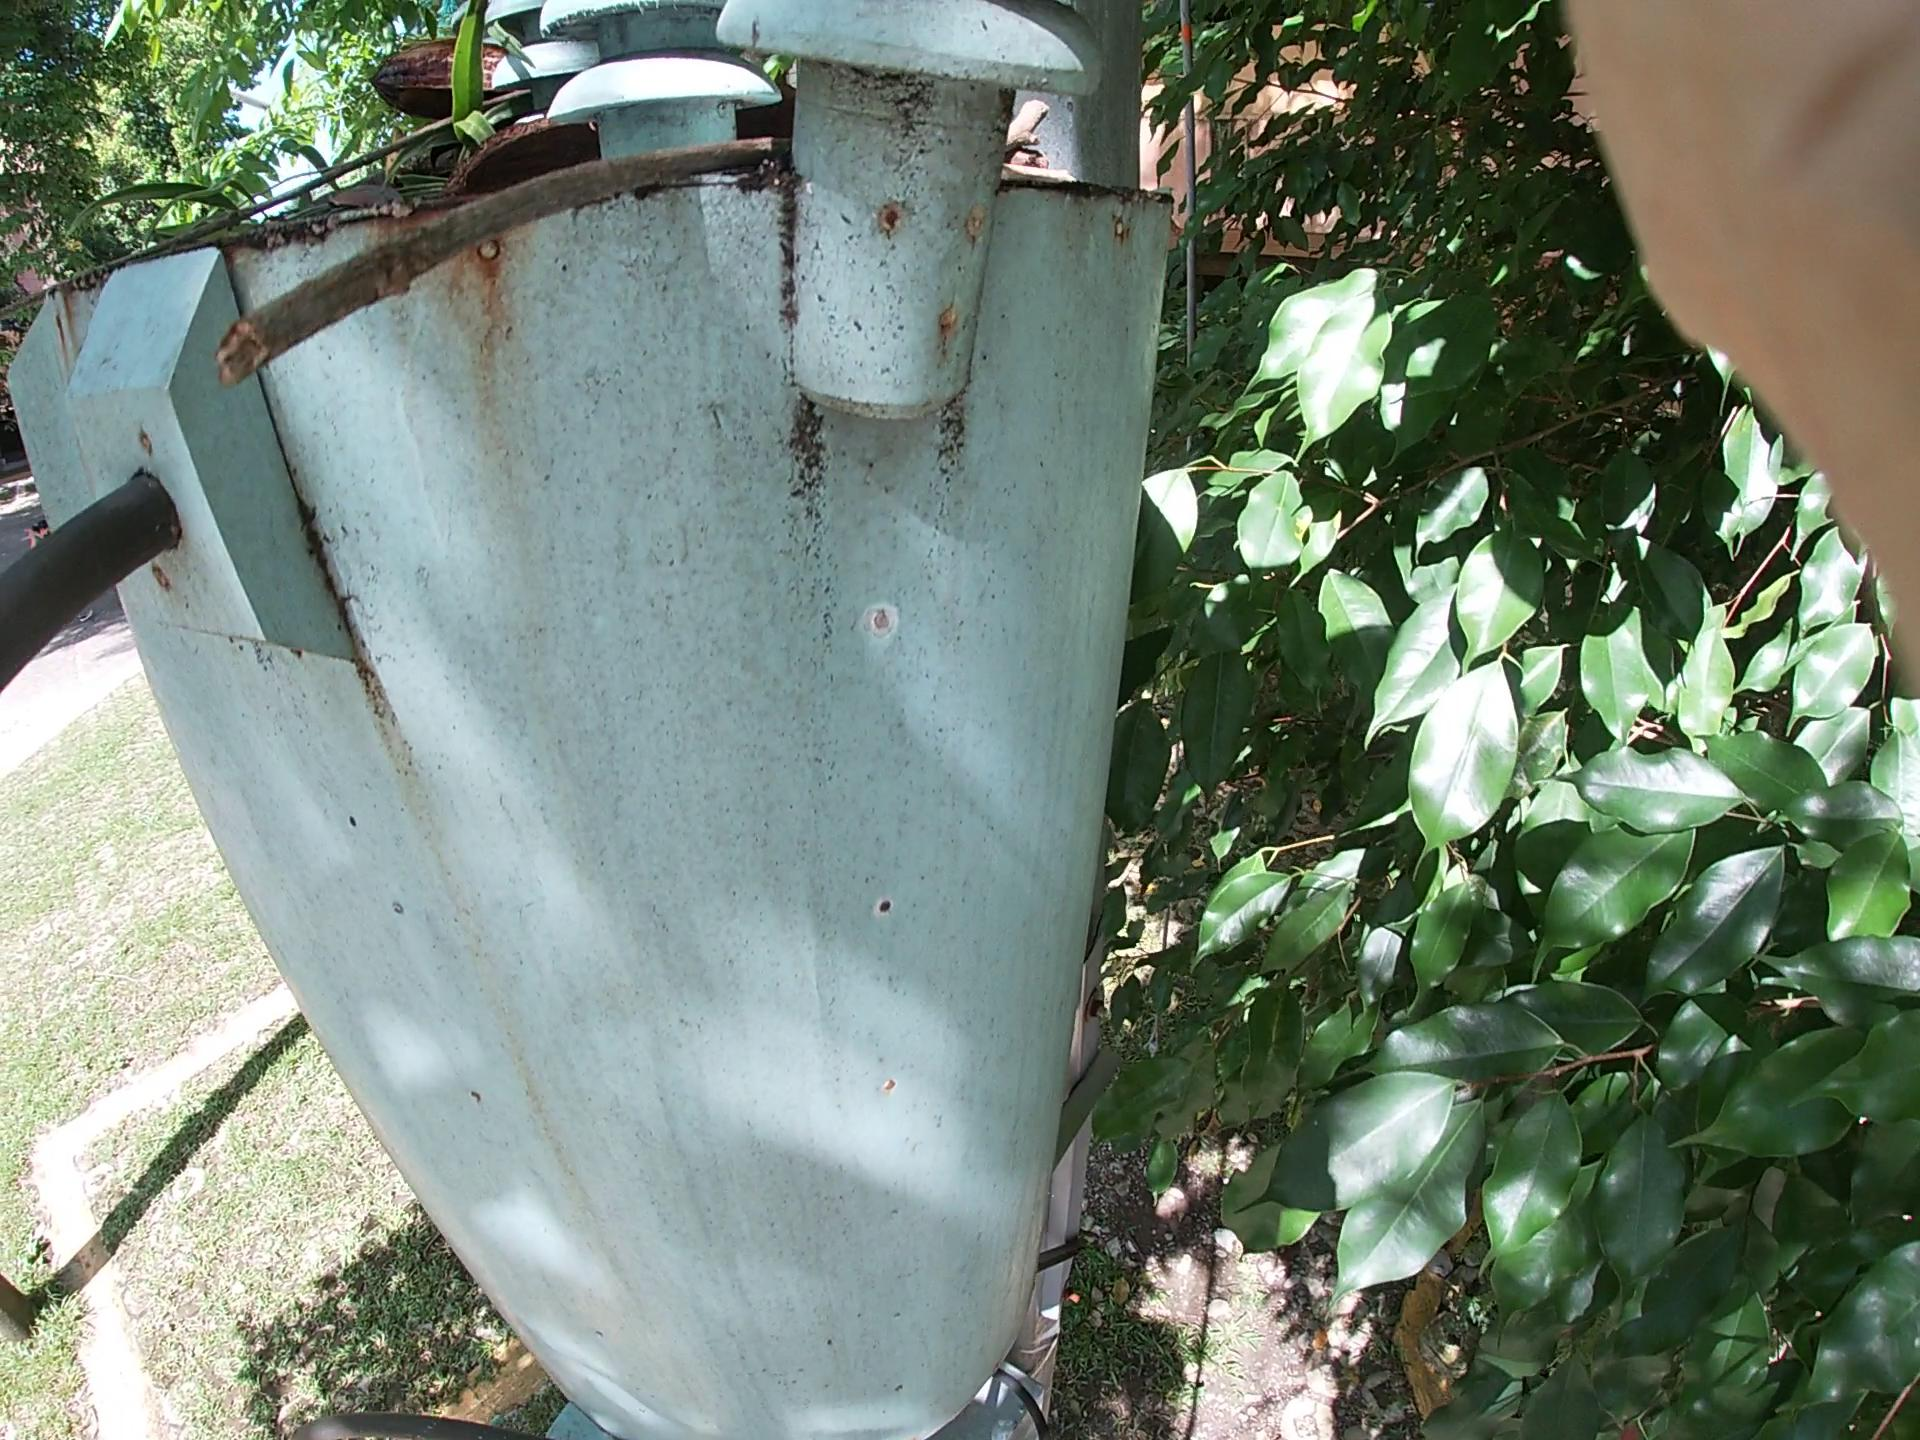mahogany fruit: (328, 26, 552, 160)
tree branch: (265, 169, 912, 375), (54, 92, 556, 299), (957, 100, 1054, 175)
